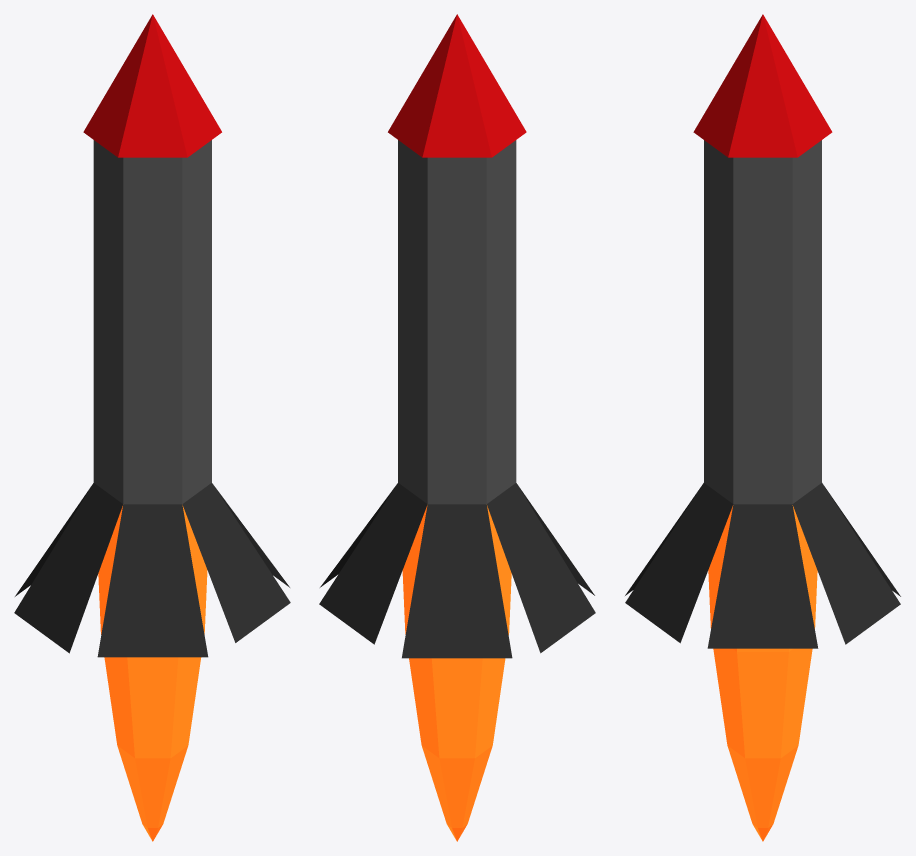
File: penis.fbx
The picture shows the model from 3 angles, left to right: view 1: azimuth 30°, elevation 25°; view 2: azimuth 150°, elevation 25°; view 3: azimuth 270°, elevation 25°; orthographic projection.
Visible parts, largest first — view 1: Cube, Cylinder; view 2: Cube, Cylinder; view 3: Cube, Cylinder.
Boxes of the visible parts, box(x1,y1,x2,y2) form: Cube: box(14, 14, 290, 657); Cylinder: box(98, 505, 207, 841); Cube: box(319, 14, 595, 658); Cylinder: box(402, 505, 511, 841); Cube: box(625, 14, 900, 648); Cylinder: box(708, 505, 817, 841).
Bounding box in the file's own units: 46.72 × 167 × 50.7.
